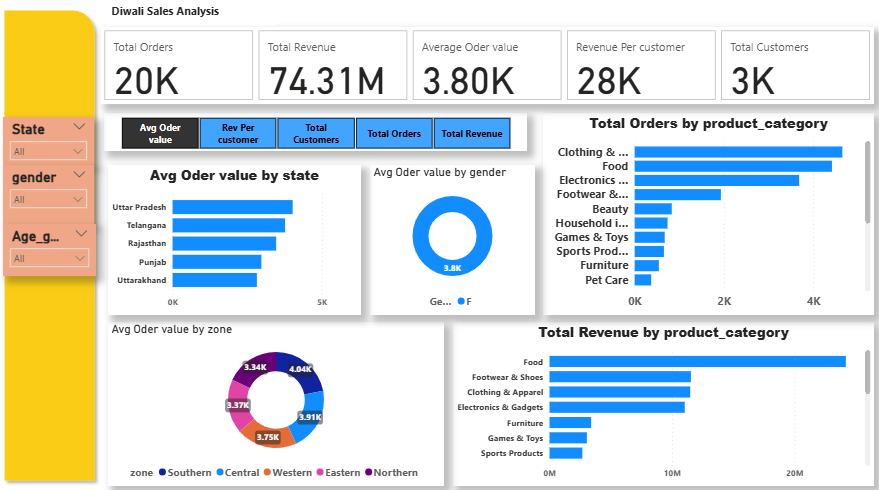

Layout of this report page (visuals, bound fields, positions):
{"tool":"powerbi","page":{"name":"Page 1","canvas":[1280,720],"ordinal":0},"visuals":[{"type":"shape","box":[0,11.6,148.3,695.5],"z":0,"group":"g1"},{"type":"cardVisual","fields":{"Data":["public sales.Total Orders","public sales.Total Revenue","public sales.Average Oder value","public sales.Revenue Per customer","public sales.Total Customers"]},"box":[148.3,44.7,1113.1,110.9],"z":1000,"group":"g2"},{"type":"clusteredBarChart","fields":{"Y":["public sales.Average Oder value"],"Category":["public sales.state"]},"box":[158.4,243.4,364.3,216],"z":2000,"group":"g2"},{"type":"donutChart","fields":{"Y":["public sales.Average Oder value"],"Category":["public sales.gender"]},"box":[535.7,243.4,237.6,216],"z":3000,"group":"g2"},{"type":"slicer","fields":{"Values":["comparison measure.comparison measure"]},"box":[152.6,168.5,609.1,54.7],"z":4000,"group":"g2"},{"type":"donutChart","fields":{"Y":["public sales.Average Oder value"],"Category":["public sales.zone"]},"box":[158.4,469.5,483.8,236.2],"z":5000,"group":"g2"},{"type":"clusteredBarChart","fields":{"Category":["public sales.product_category"],"Y":["public sales.Total Revenue"]},"box":[655.2,469.5,606.2,236.2],"z":6000,"group":"g2"},{"type":"clusteredBarChart","fields":{"Category":["public sales.product_category"],"Y":["public sales.Total Orders"]},"box":[784.8,168.5,476.6,290.9],"z":7000,"group":"g2"},{"type":"slicer","fields":{"Values":["public sales.state"]},"box":[7.2,174.3,131,69.1],"z":8000,"group":"g1"},{"type":"slicer","fields":{"Values":["public sales.gender"]},"box":[7.2,243.4,131,85],"z":8001,"group":"g1"},{"type":"slicer","fields":{"Values":["public sales.age_group"]},"box":[7.2,328.4,133.9,74.9],"z":8002,"group":"g1"},{"type":"group","id":"g1","title":"Group 1","box":[0,11.6,148.3,695.5],"z":8003,"group":"g2"},{"type":"group","id":"g2","title":"Group 2","box":[0,6.5,1261.4,700.6],"z":8004},{"type":"textbox","box":[158.4,6.5,241.9,37.4],"z":8005,"group":"g2"}]}

Visuals, with their boxes in screenshot pixels (x1, y1, x2, y2), scaled from the page's 1280x720 canvas onto the 879x490 screenshot:
shape: Rect(0, 8, 102, 481)
cardVisual - public sales.Total Orders x public sales.Total Revenue: Rect(102, 30, 866, 106)
clusteredBarChart - public sales.Average Oder value x public sales.state: Rect(109, 166, 359, 313)
donutChart - public sales.Average Oder value x public sales.gender: Rect(368, 166, 531, 313)
slicer - comparison measure.comparison measure: Rect(105, 115, 523, 152)
donutChart - public sales.Average Oder value x public sales.zone: Rect(109, 320, 441, 480)
clusteredBarChart - public sales.product_category x public sales.Total Revenue: Rect(450, 320, 866, 480)
clusteredBarChart - public sales.product_category x public sales.Total Orders: Rect(539, 115, 866, 313)
slicer - public sales.state: Rect(5, 119, 95, 166)
slicer - public sales.gender: Rect(5, 166, 95, 223)
slicer - public sales.age_group: Rect(5, 223, 97, 274)
"Group 1" group: Rect(0, 8, 102, 481)
"Group 2" group: Rect(0, 4, 866, 481)
textbox: Rect(109, 4, 275, 30)
